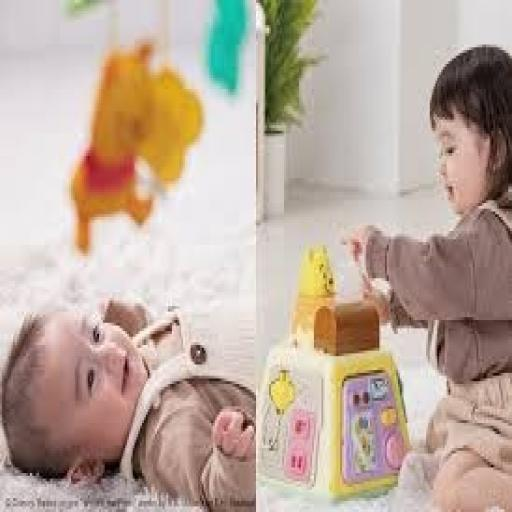baby: (348, 48, 511, 511), (2, 301, 255, 511)
